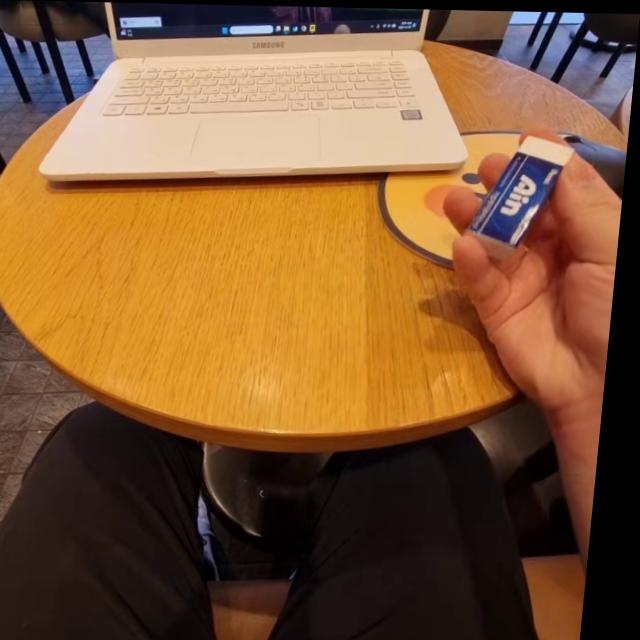grab_eraser: (441, 118, 631, 406)
